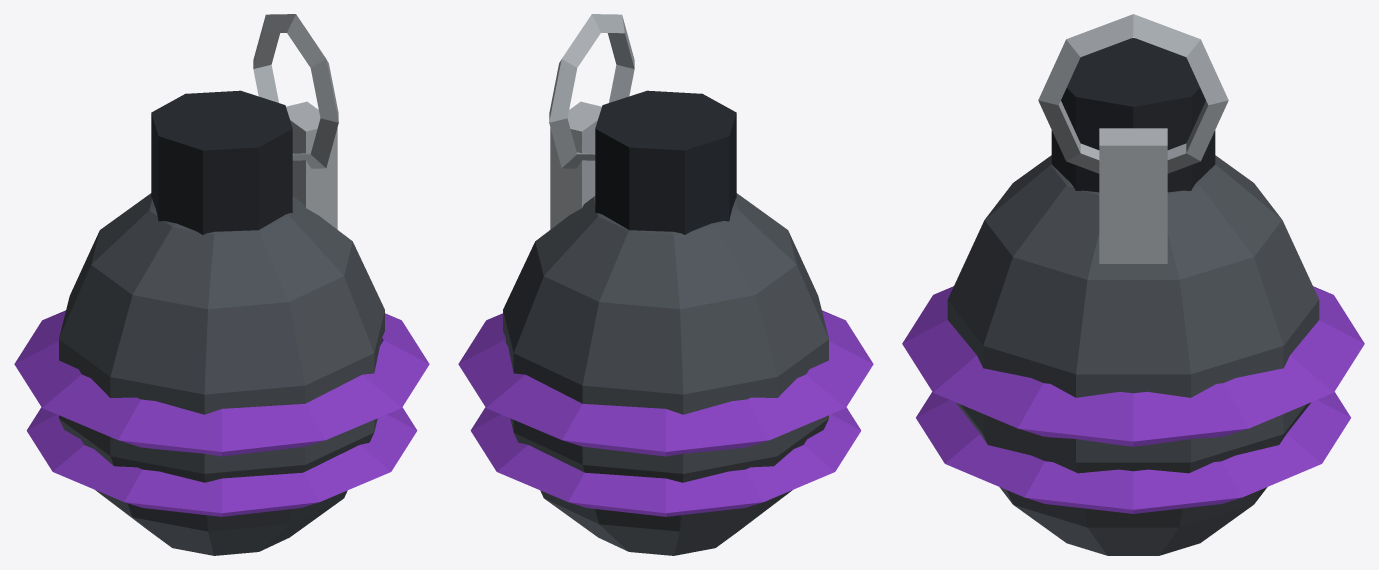
Rendered from grenade-panic.glb.
3 views of the same model, side by side, from view 1: azimuth 30°, elevation 25°; view 2: azimuth 150°, elevation 25°; view 3: azimuth 270°, elevation 25° (orthographic). The views are drawn at different scales.
Visible parts, largest first — view 1: m; view 2: m; view 3: m.
Part boxes in pixels (box(x1,y1,x2,y2)): m: box(14, 14, 429, 555); m: box(458, 14, 873, 555); m: box(902, 14, 1364, 555).
Size of the model in its own units: 0.059 by 0.08 by 0.059.
